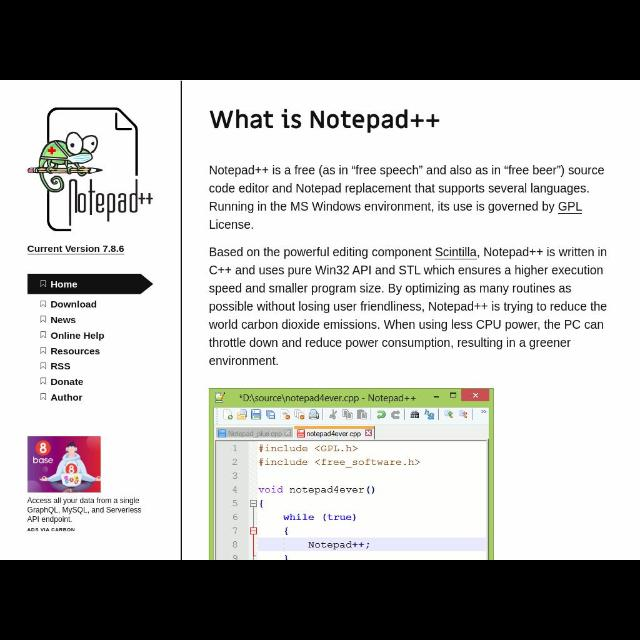icon: (40, 279, 46, 287), (40, 300, 46, 308), (40, 346, 46, 354), (40, 362, 46, 370), (40, 394, 46, 401), (40, 316, 46, 322), (40, 332, 46, 338), (40, 378, 46, 384)
image: (208, 388, 494, 560), (27, 105, 153, 232), (28, 436, 100, 492)
panel: (1, 80, 181, 560)
text: (210, 246, 608, 350), (209, 164, 605, 213), (208, 109, 440, 133), (27, 496, 141, 524), (27, 245, 125, 255), (209, 355, 279, 365), (52, 332, 104, 341), (209, 219, 253, 229), (51, 300, 97, 308), (50, 348, 100, 354), (51, 378, 84, 386), (51, 394, 83, 401), (51, 280, 78, 288), (50, 316, 76, 324), (27, 528, 74, 532), (51, 362, 71, 370)
